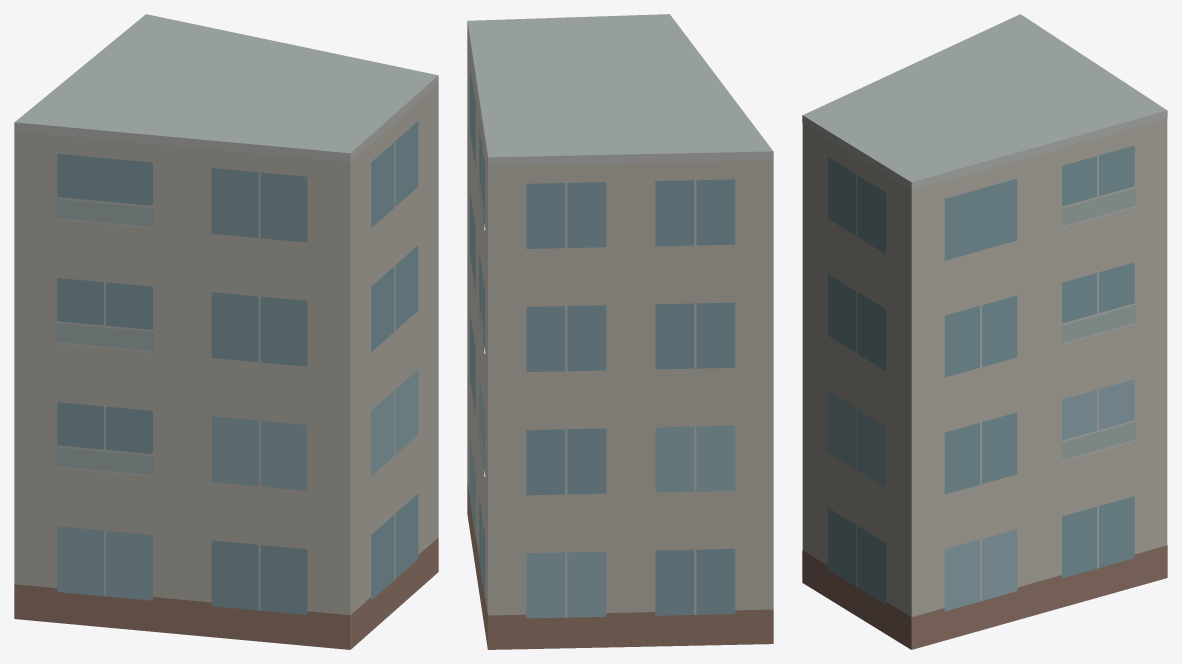
File: survey-upis-32643667.glb
The picture shows the model from 3 angles, left to right: view 1: azimuth 30°, elevation 25°; view 2: azimuth 150°, elevation 25°; view 3: azimuth 270°, elevation 25°; orthographic projection. The views are drawn at different scales.
Parts seen in each view (by area): view 1: survey-upis-32643667.tmp; view 2: survey-upis-32643667.tmp; view 3: survey-upis-32643667.tmp.
Part boxes in pixels (bbox=[...]): survey-upis-32643667.tmp: bbox=[14, 14, 438, 649]; survey-upis-32643667.tmp: bbox=[467, 14, 773, 649]; survey-upis-32643667.tmp: bbox=[802, 14, 1167, 649].
Size of the model in its own units: 10.74 by 13.9 by 9.84.
